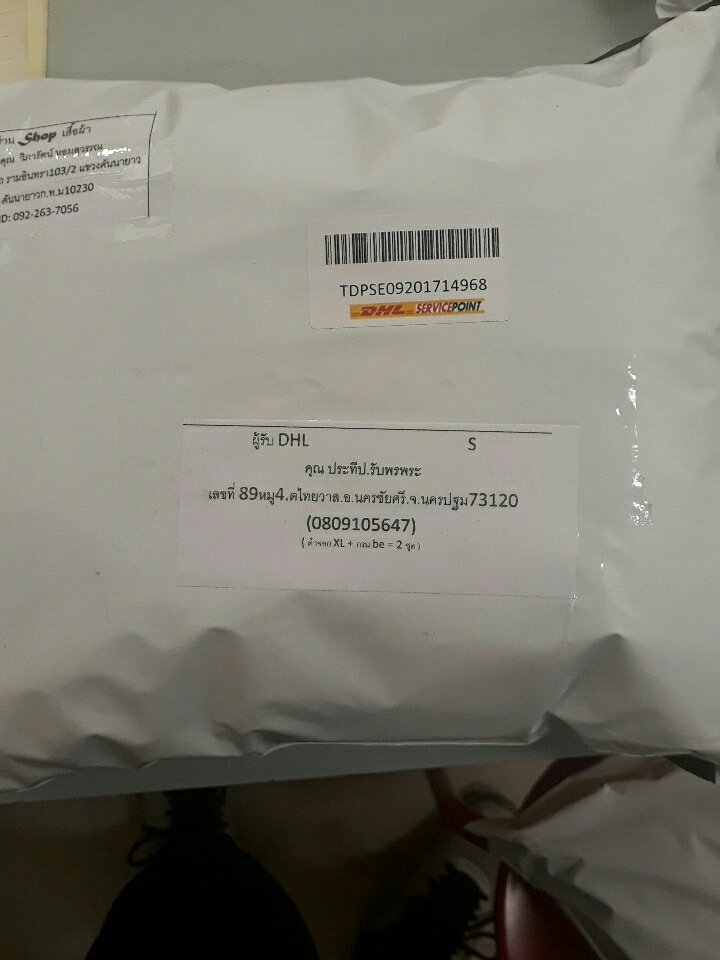ba: (299, 209, 526, 333)
txt: (202, 456, 549, 564)
